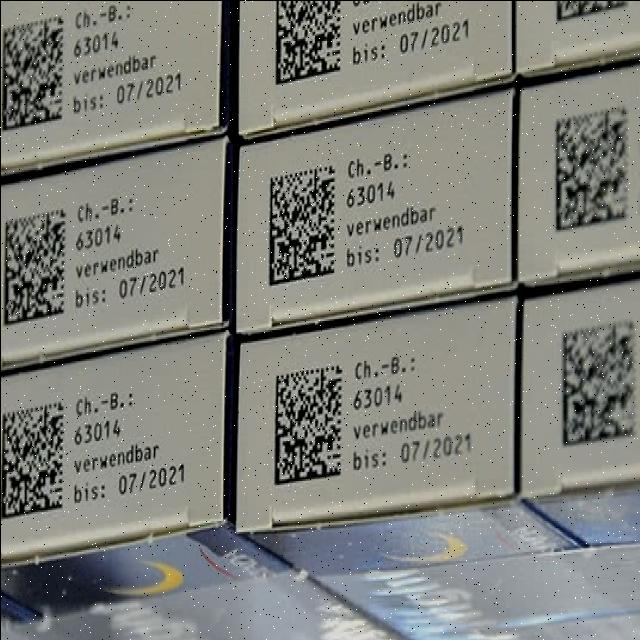datamatrix: (548, 100, 638, 242), (554, 313, 640, 456), (260, 156, 342, 294), (270, 364, 349, 491), (0, 204, 71, 337), (0, 9, 73, 138), (0, 397, 71, 528), (266, 0, 345, 97), (550, 0, 633, 29)
